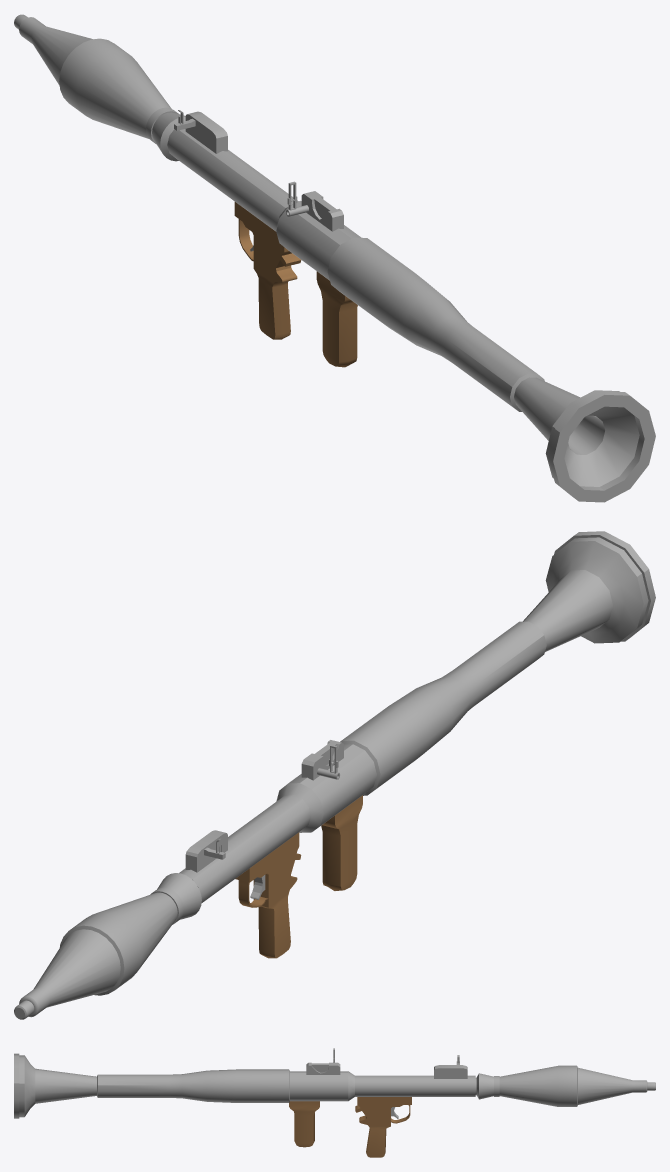
File: weapon_bazooka.fbx
The picture shows the model from 3 angles, top to bottom: view 1: azimuth 30°, elevation 25°; view 2: azimuth 150°, elevation 25°; view 3: azimuth 270°, elevation 25°; orthographic projection. The views are drawn at different scales.
Parts seen in each view (by area): view 1: BODY; view 2: BODY; view 3: BODY.
Boxes of the visible parts, x1,y1,x2,y2 form: BODY: [14, 14, 655, 502]; BODY: [14, 531, 655, 1019]; BODY: [14, 1048, 655, 1157].
Bounding box in the file's own units: 386 × 662 × 3801.
